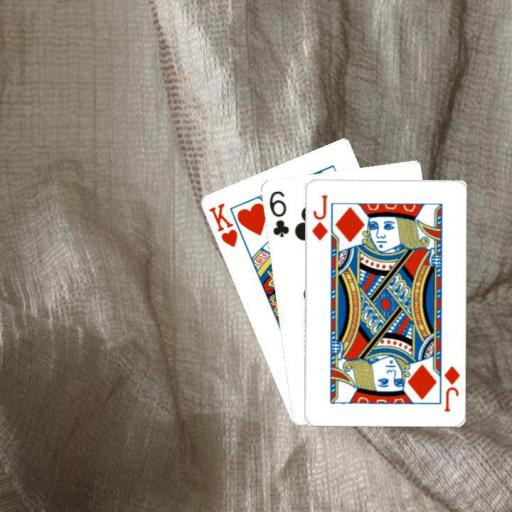6C: (265, 187, 290, 238)
JD: (308, 191, 329, 242), (440, 362, 461, 412)
KH: (205, 200, 239, 249)
